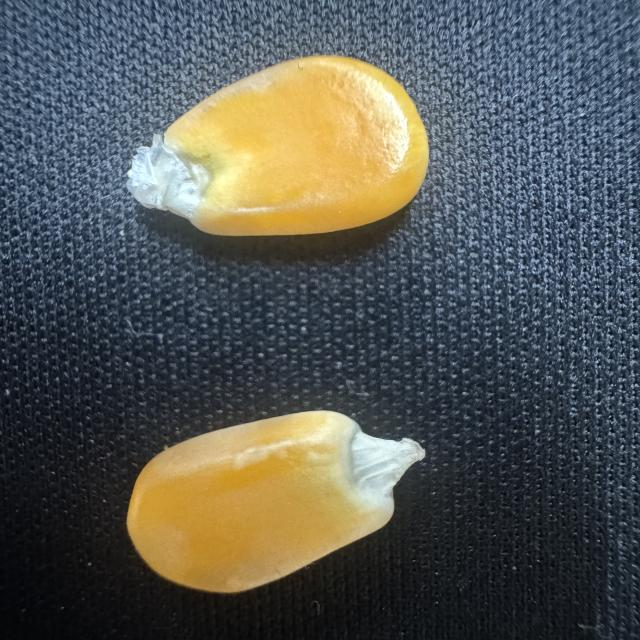Good-Seed: (120, 49, 433, 242), (121, 406, 431, 598)
